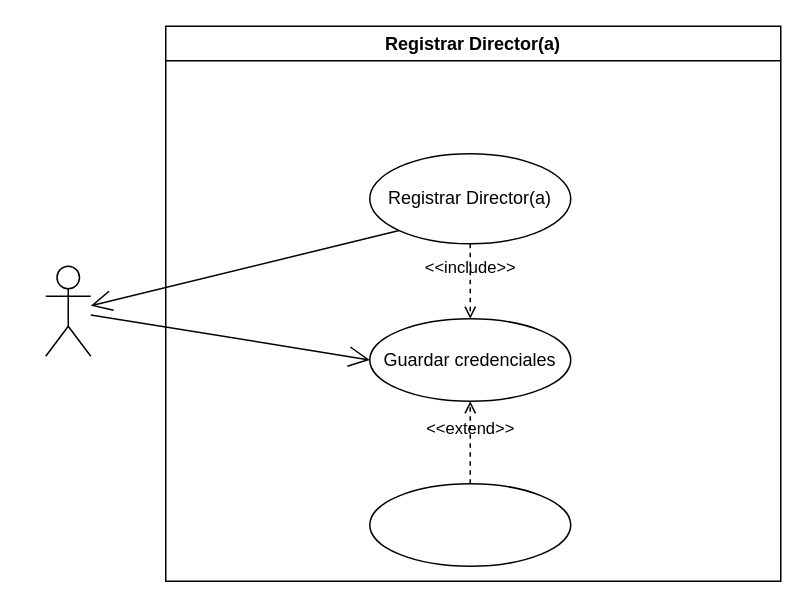
Some shapes in this 807 by 608 pixel diagram are drawn without their labels. The centre of each missing label's shape, as x and y in pixels:
"Dierctor(a)" belongs at point (67, 310).
"Publicar de Evento" belongs at point (469, 524).
